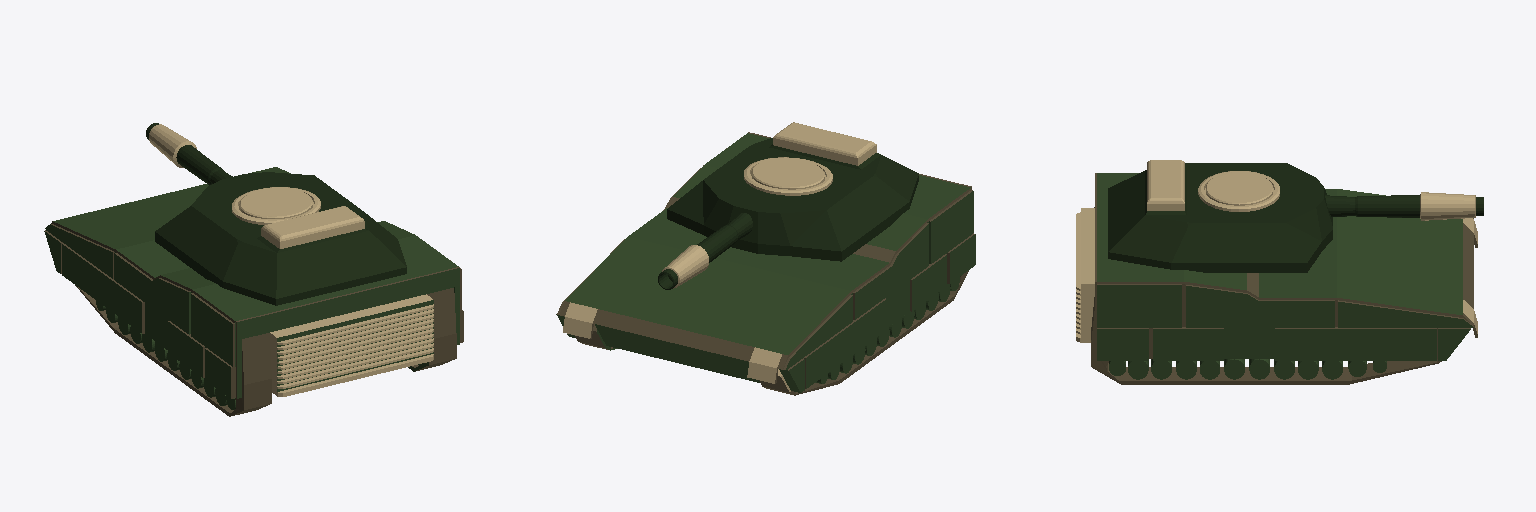
Rendered from tank.obj.
The picture shows the model from 3 angles: view 1: azimuth 30°, elevation 25°; view 2: azimuth 150°, elevation 25°; view 3: azimuth 270°, elevation 25°; orthographic projection.
Visible parts, largest first — view 1: body, head; view 2: body, head; view 3: body, head.
Boxes of the visible parts, box(x1,y1,x2,y2) form: body: box(44, 167, 463, 416); head: box(146, 123, 406, 305); body: box(556, 132, 975, 395); head: box(658, 122, 918, 289); body: box(1076, 173, 1477, 384); head: box(1108, 160, 1483, 272).
Size of the model in its own units: 1 by 0.632 by 1.52.